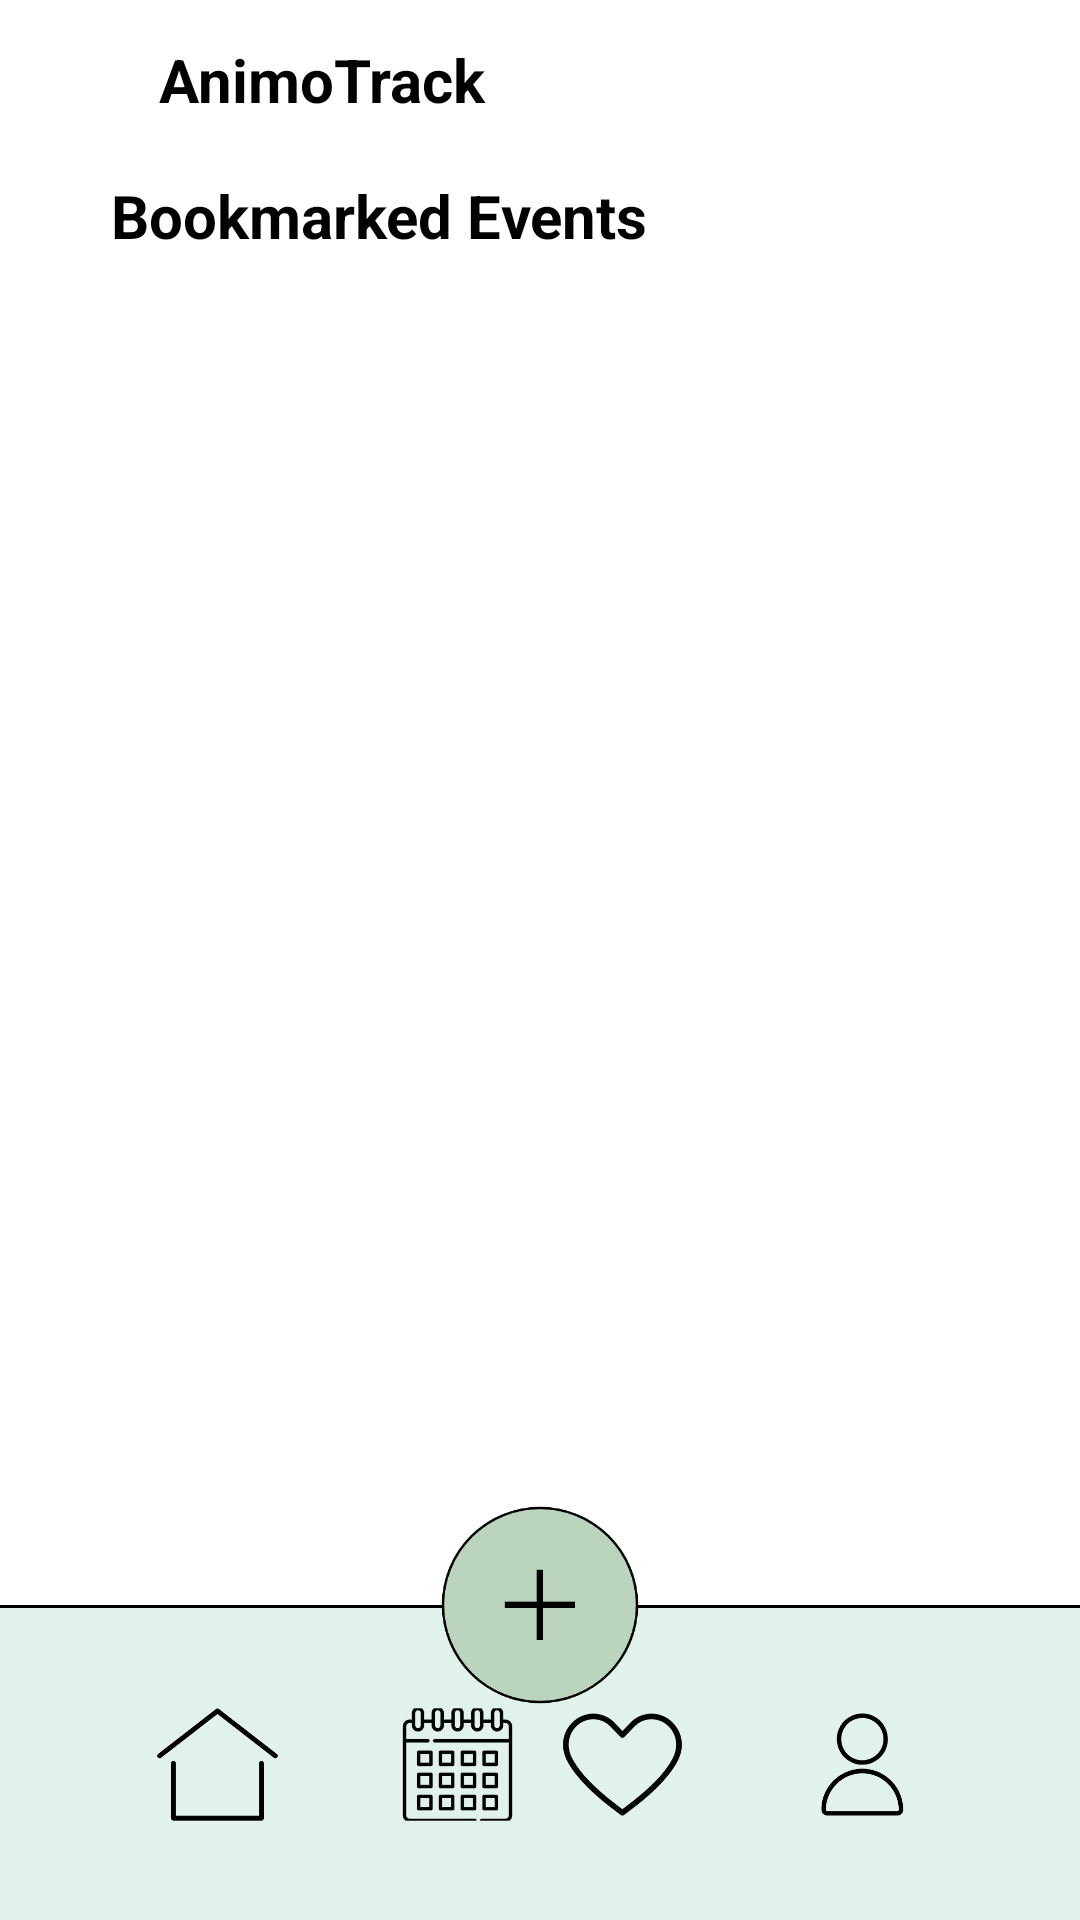

Point at icon controls on the screen. Image size 1080w x 1920h, points as (x=x, y=y).
add event: (x=540, y=1605)
Bookmarks Button: (x=588, y=1744)
Events Button: (x=457, y=1764)
Home Button: (x=217, y=1764)
Profile Buton: (x=862, y=1764)
